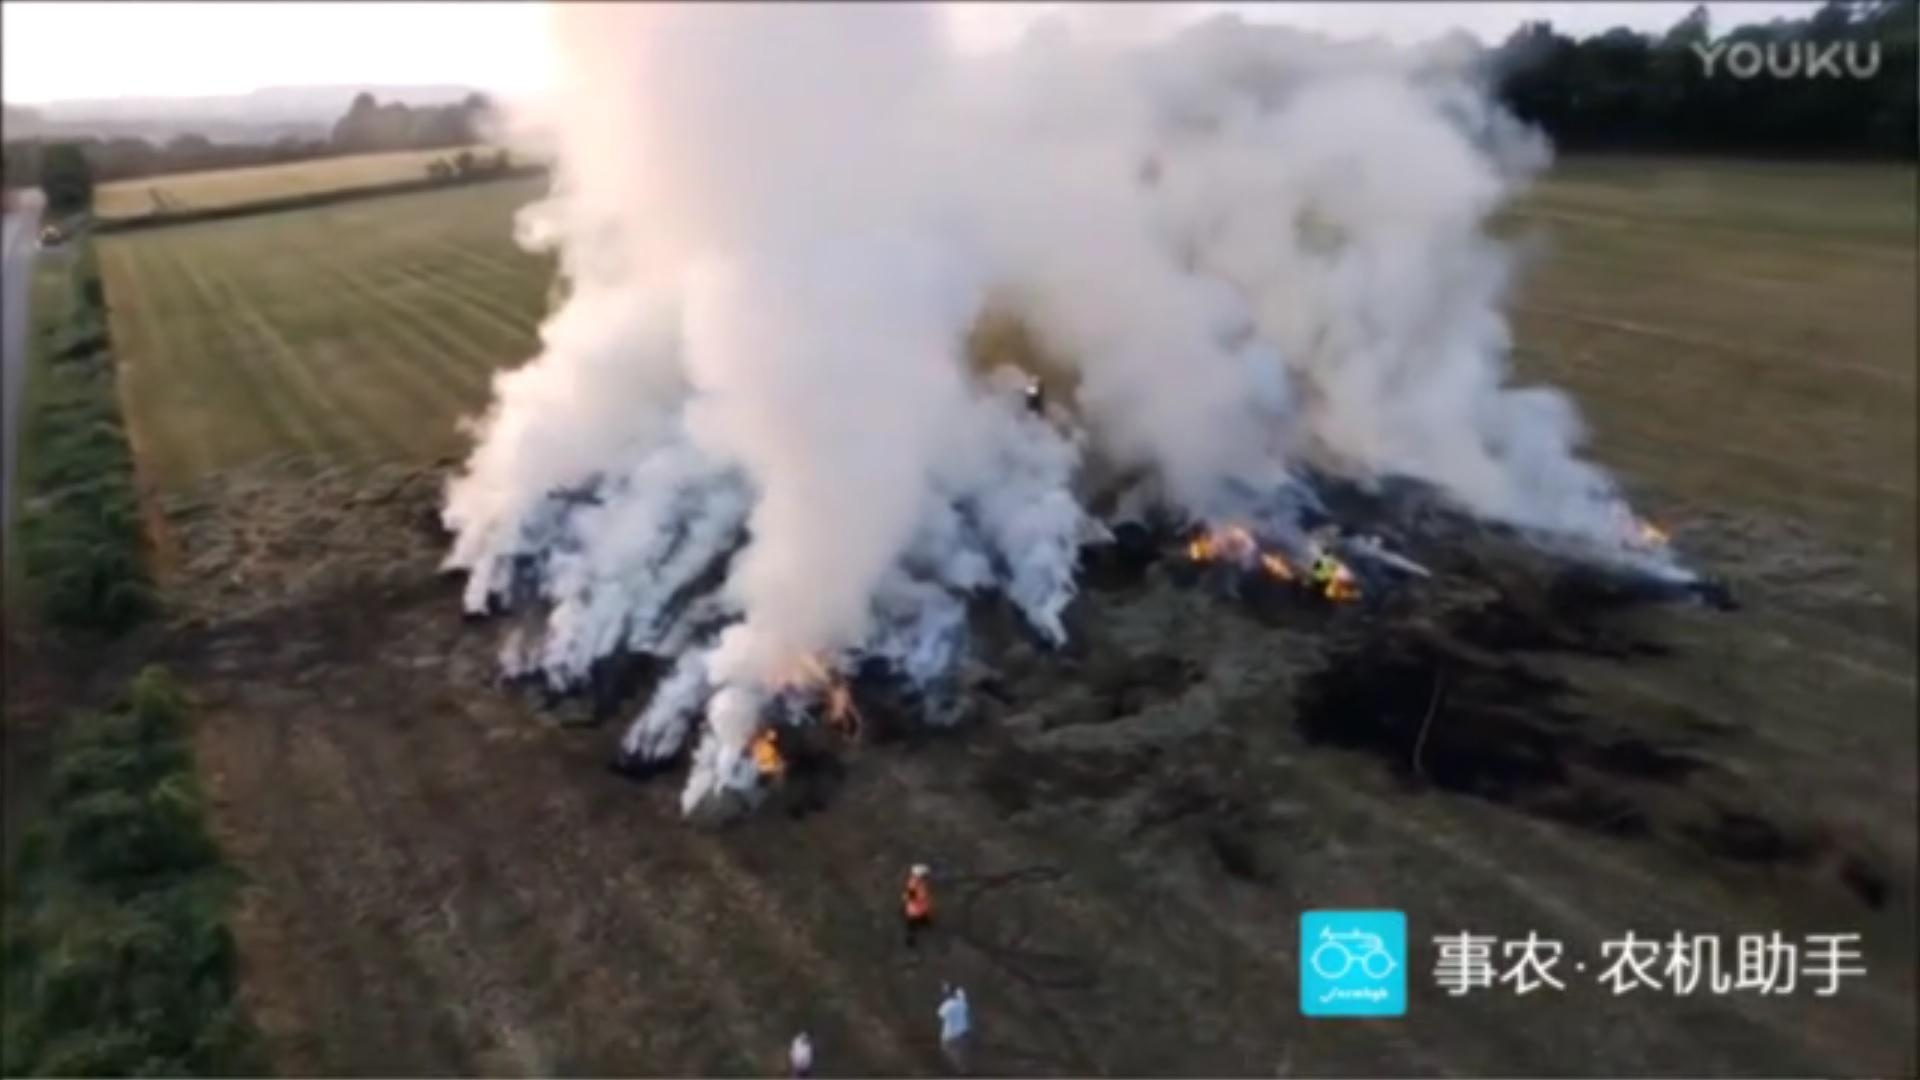fire: (1184, 526, 1340, 587), (740, 723, 787, 775), (1634, 517, 1667, 549)
